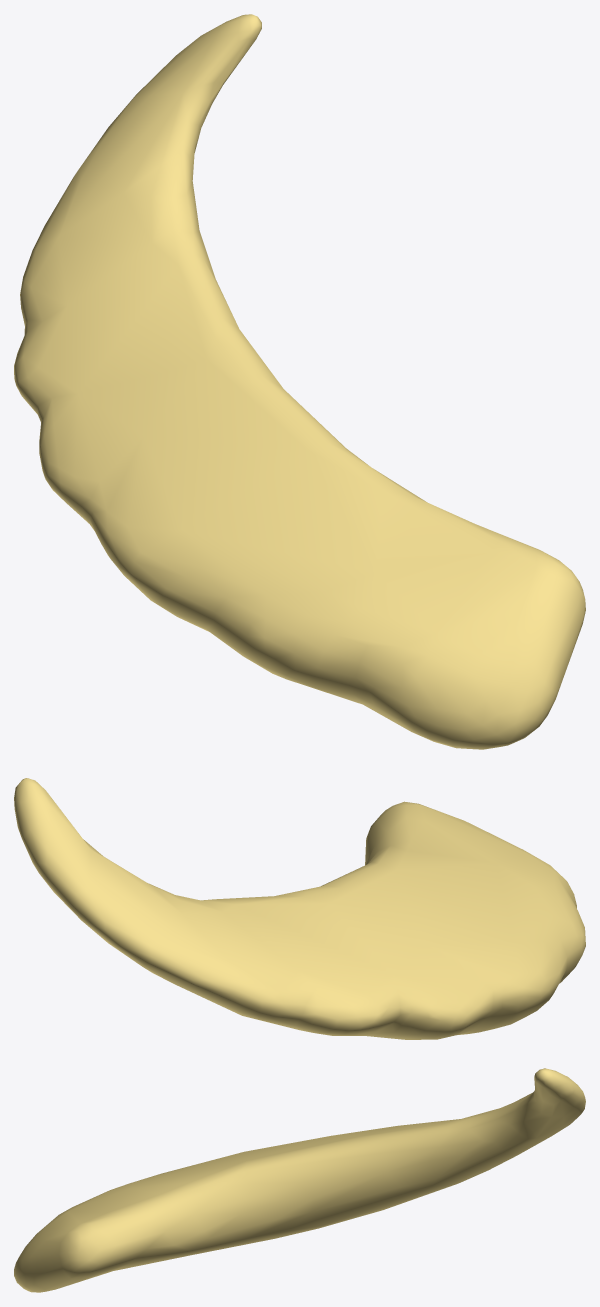
The picture shows the model from 3 angles, top to bottom: view 1: azimuth 30°, elevation 25°; view 2: azimuth 150°, elevation 25°; view 3: azimuth 270°, elevation 25°; orthographic projection. The views are drawn at different scales.
Visible parts, largest first — view 1: ZA_a903410ed86b6d98; view 2: ZA_a903410ed86b6d98; view 3: ZA_a903410ed86b6d98.
Boxes of the visible parts, bbox=[...] form: ZA_a903410ed86b6d98: bbox=[14, 14, 585, 749]; ZA_a903410ed86b6d98: bbox=[14, 778, 585, 1039]; ZA_a903410ed86b6d98: bbox=[14, 1068, 585, 1292].
Bounding box in the file's own units: 0.0194 × 0.0213 × 0.0416.
